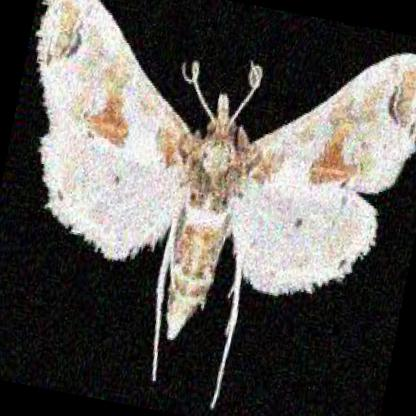leucinodes: (35, 0, 416, 341)
